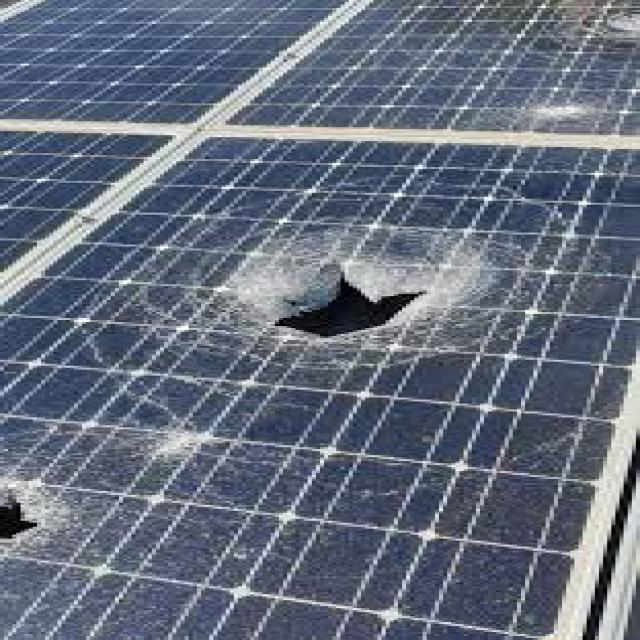faulty: (0, 131, 640, 640), (219, 2, 640, 144)
